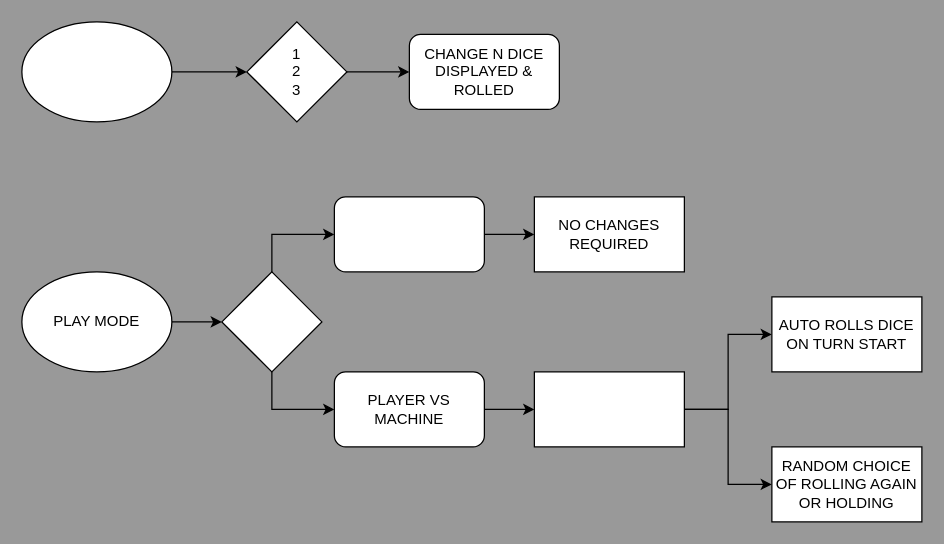
Image size: 944x544. Some labels were removed from this diagram. The box of each missing label's shape, as (x1, y1, x2, y2) in pixels:
ADD: (533, 371, 684, 447)
DICE MODE: (21, 21, 172, 122)
GAME: (221, 271, 322, 372)
PLAYER VS PLAYER: (333, 196, 484, 272)
